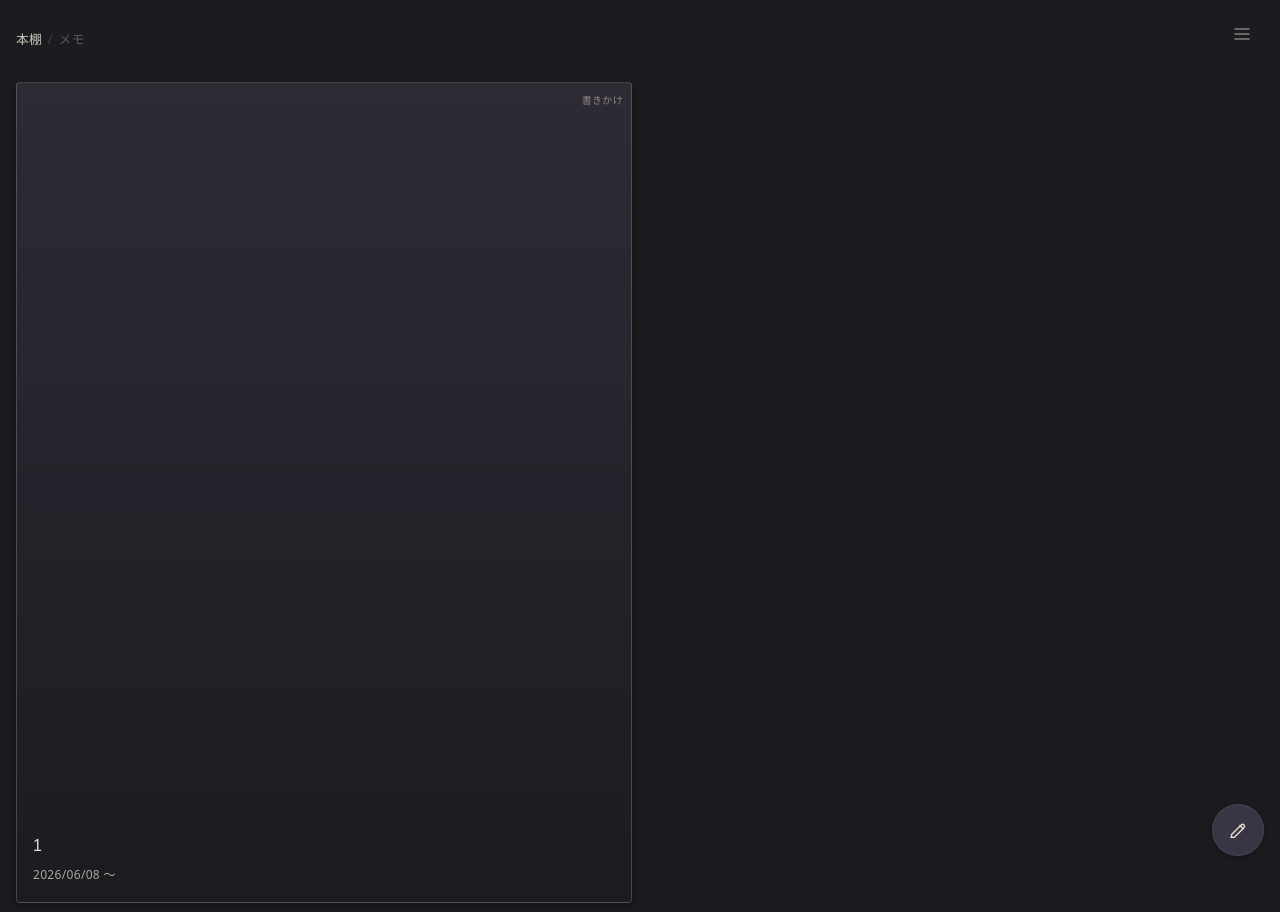
Scenario: BookshelfPage new volume via header menu (M5-T5.1) › confirm で OK すると rotateVolume が実行され、冊が 2 件になる
Expected: the link with aria-label "ノート 1" is shown, [16,82,632,903]
Step 1. Click the button named "メニューを開く" → (1242, 34), box [1220,12,1264,56]
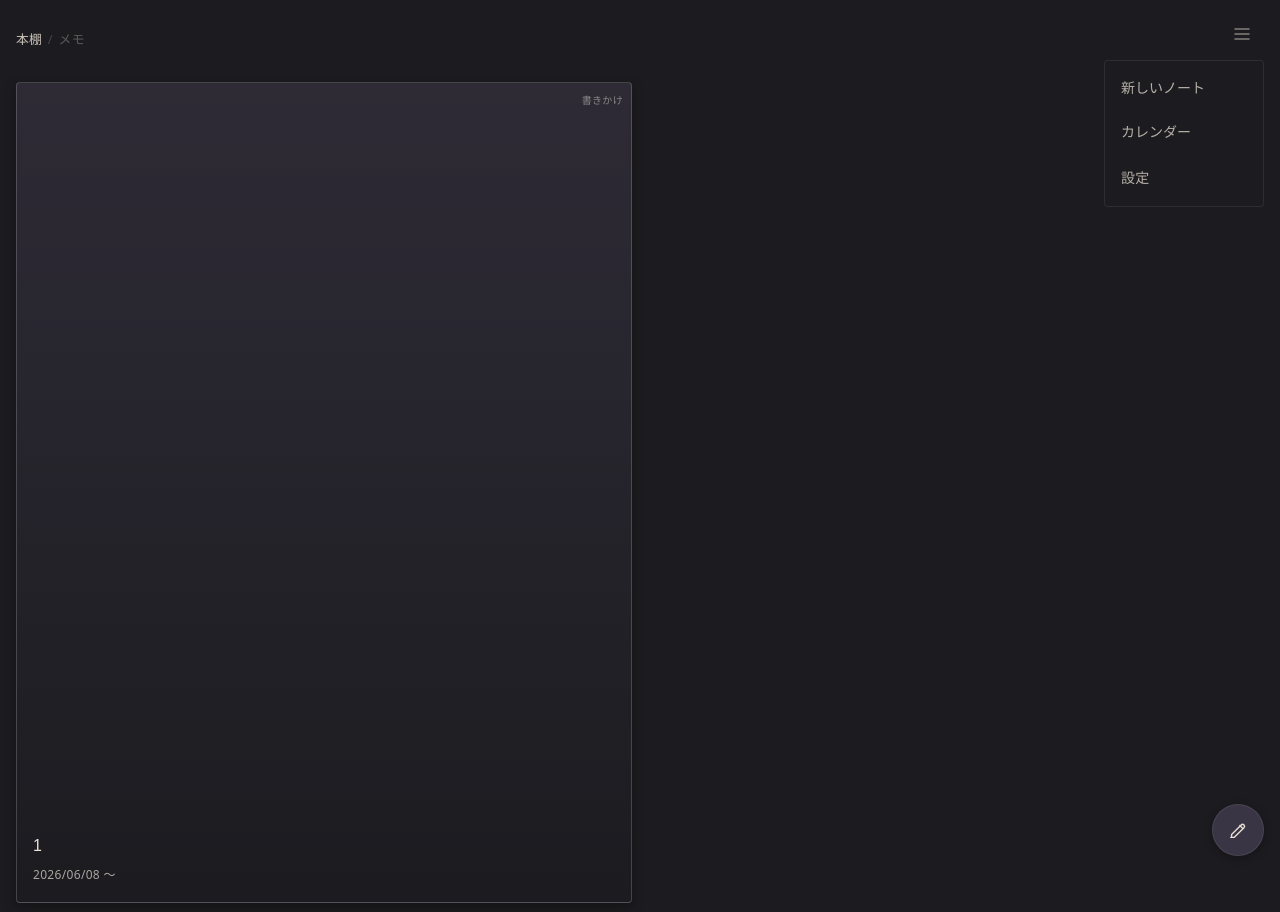
Step 2. Click the menu item "新しいノート" → (1184, 87), box [1105,65,1263,109]
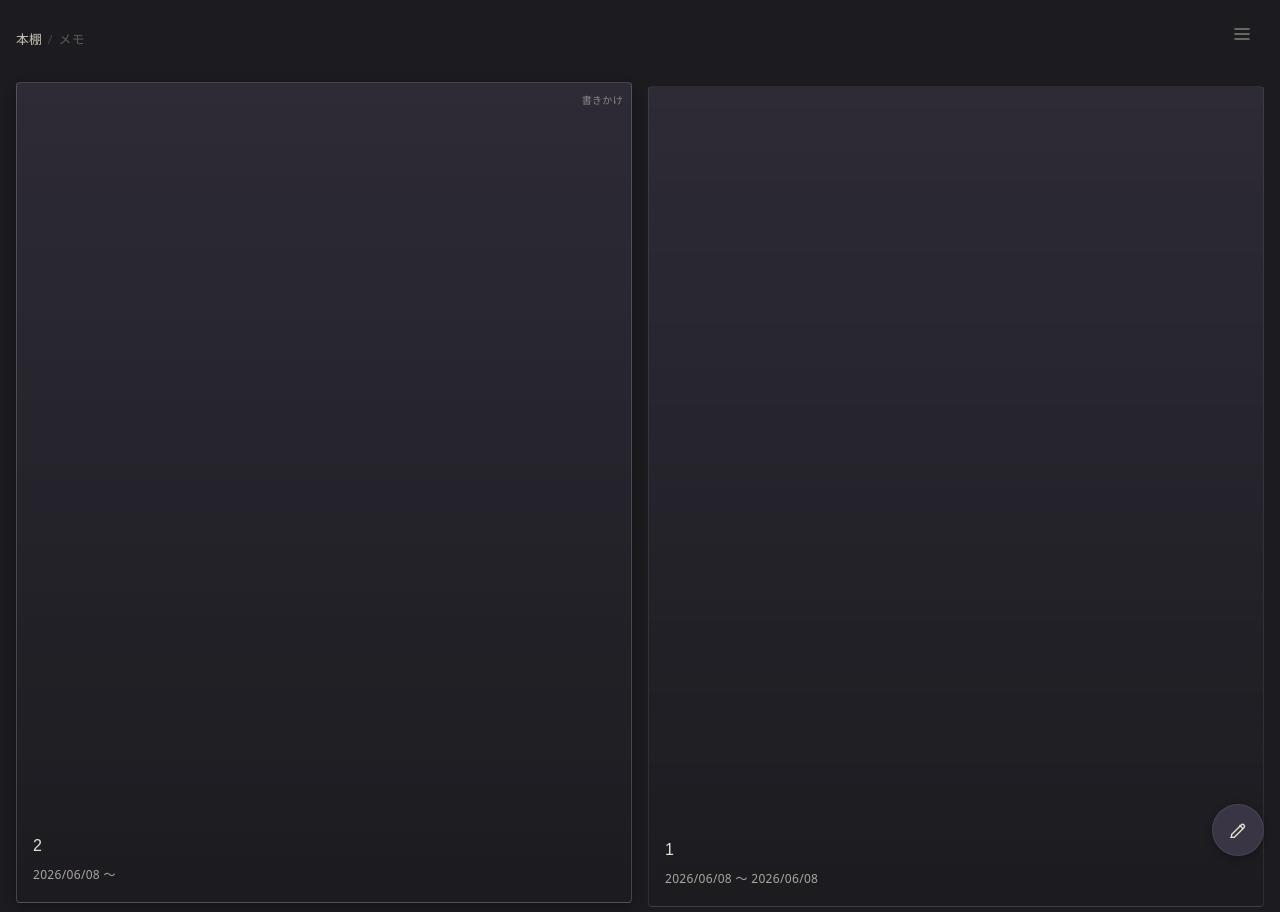
Now the number of links "2 2026/06/08 〜 書きかけ" is 2, box [16,82,632,903]; [648,86,1264,907]
